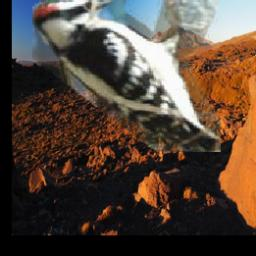Woodpecker: (32, 0, 221, 152)
